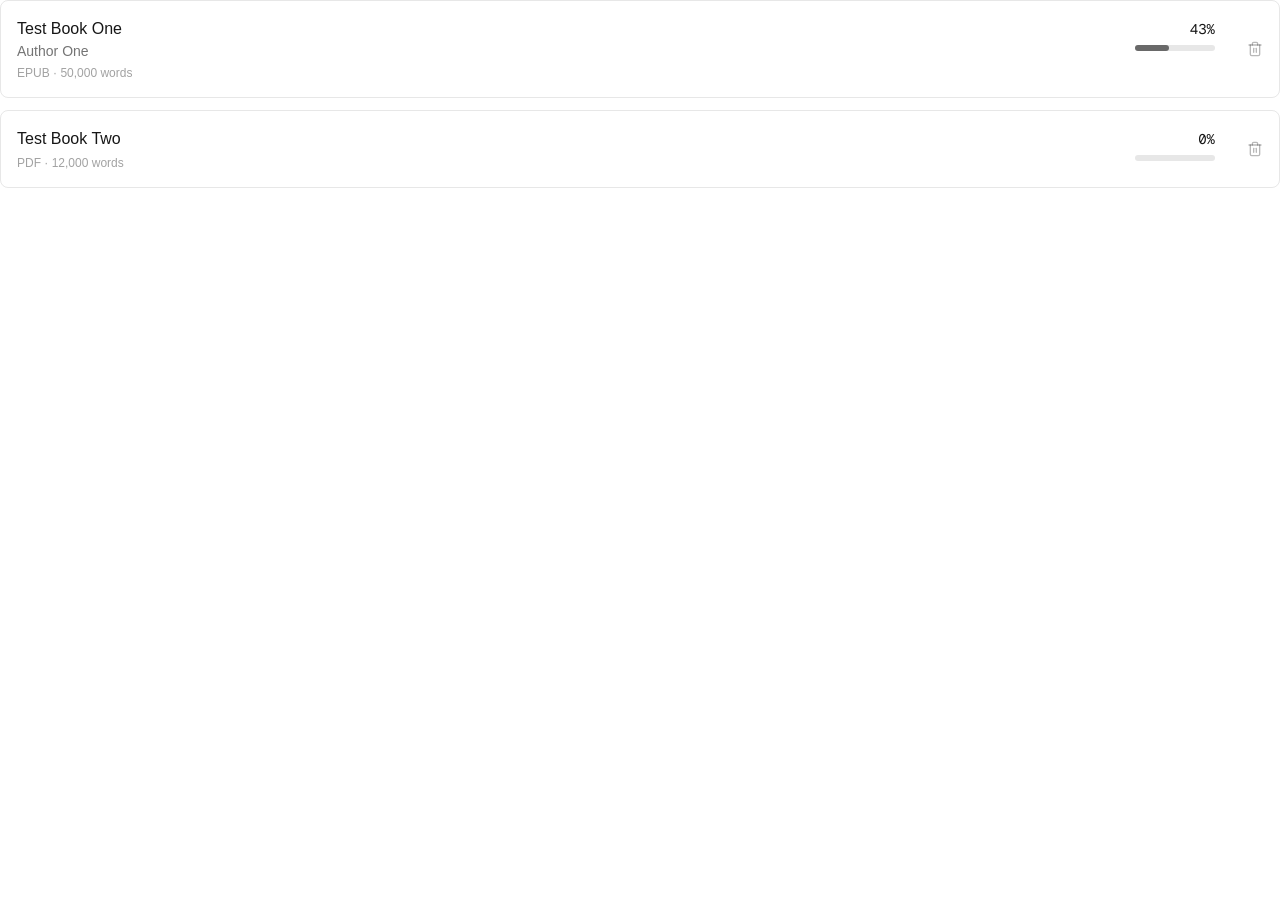
Test: BookList › opens confirmation dialog on delete click
What coordinates should you click on to do the following:
click the button named "Delete Test Book One"
I would click on:
 (1255, 49)
Its box is x1=1231 y1=25 x2=1279 y2=73.
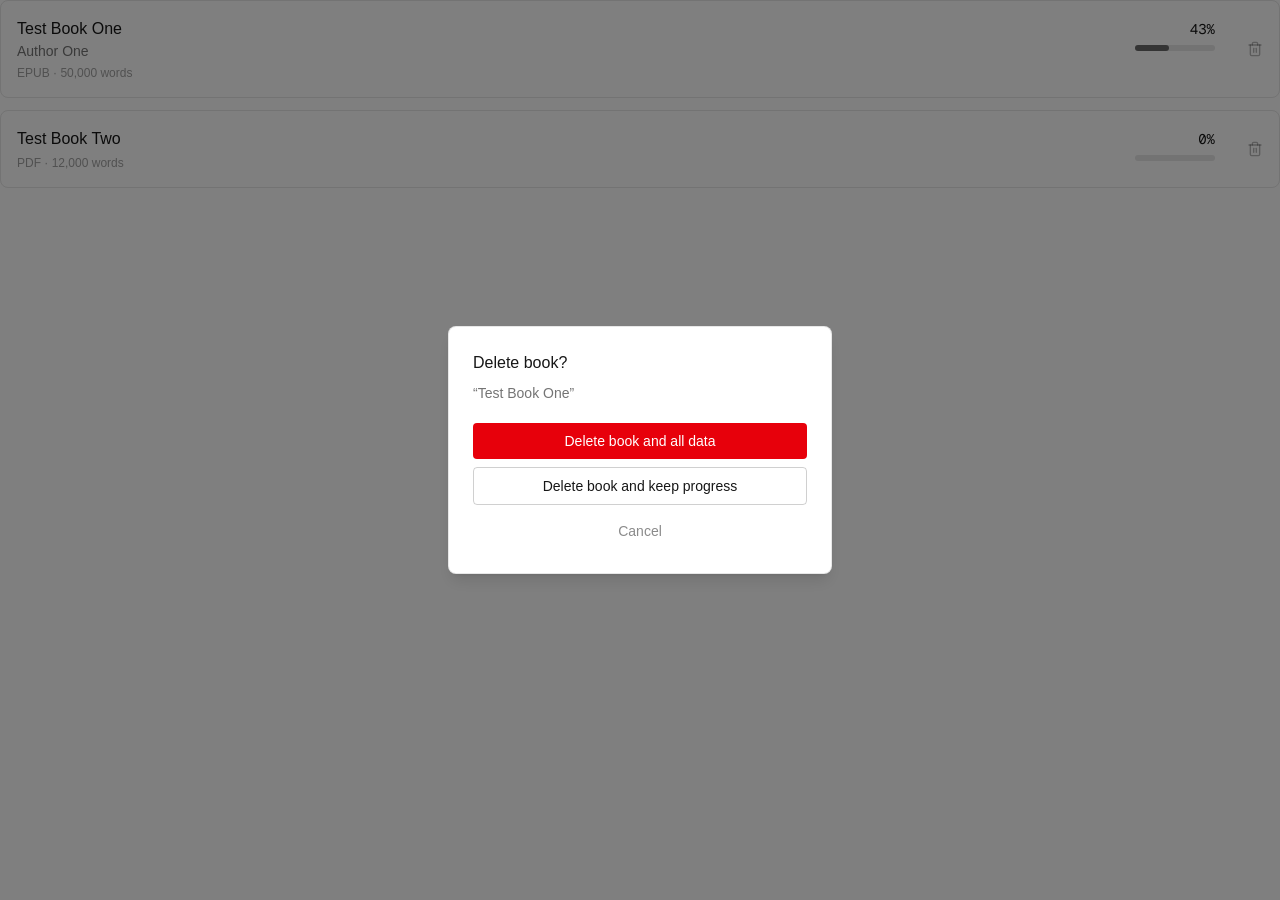
Expected: the dialog is shown
Expected: the dialog shows "Test Book One", x1=478 y1=385 x2=570 y2=401
Expected: the button "Delete book and all data" is shown, x1=473 y1=423 x2=807 y2=459
